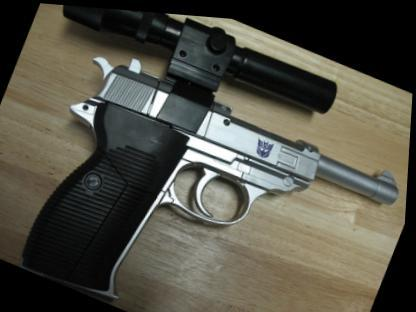pistol: (9, 31, 414, 311)
